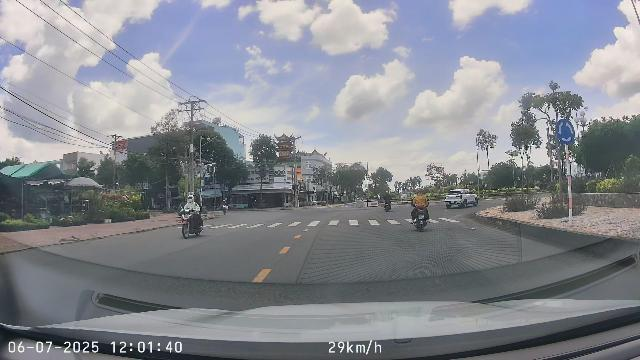303-noi-giao-nhau-chay-theo-vong-xuyen: (555, 119, 575, 145)
